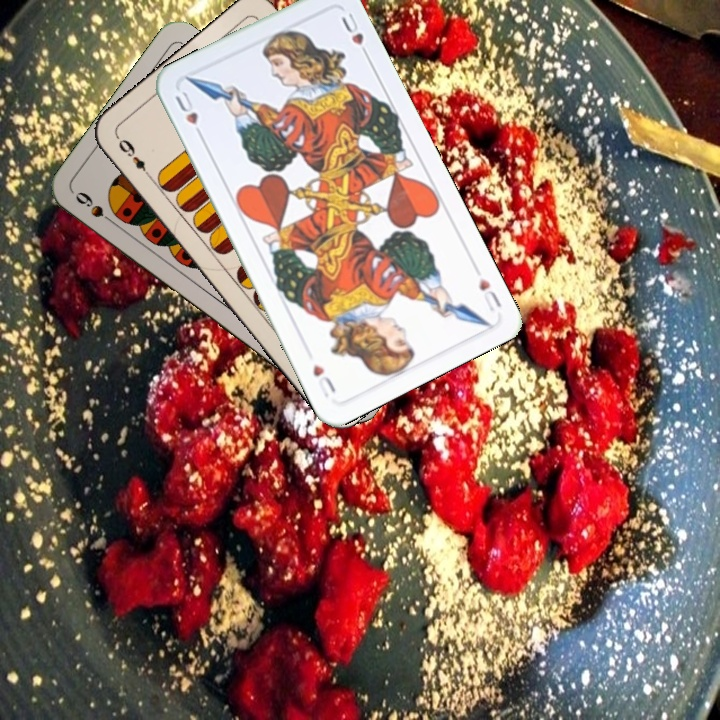E9: (113, 132, 155, 182)
HU: (171, 87, 207, 142), (475, 274, 504, 314)
S9: (71, 187, 122, 230)
